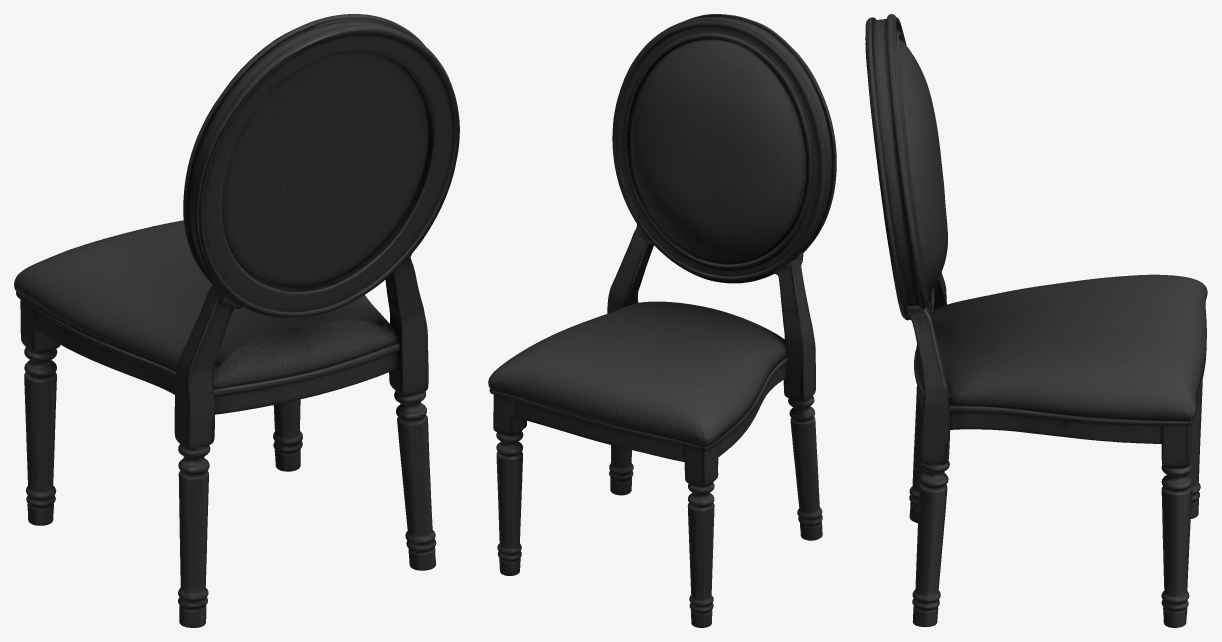
The model's file is chair-black.glb.
3 views of the same model, side by side, from view 1: azimuth 30°, elevation 25°; view 2: azimuth 150°, elevation 25°; view 3: azimuth 270°, elevation 25° (orthographic). The views are drawn at different scales.
Parts seen in each view (by area): view 1: tripo_node_afaa84c3-9462-496d-8b25-2f4709c2159a; view 2: tripo_node_afaa84c3-9462-496d-8b25-2f4709c2159a; view 3: tripo_node_afaa84c3-9462-496d-8b25-2f4709c2159a.
Part boxes in pixels (bbox=[...]): tripo_node_afaa84c3-9462-496d-8b25-2f4709c2159a: bbox=[14, 14, 459, 627]; tripo_node_afaa84c3-9462-496d-8b25-2f4709c2159a: bbox=[488, 14, 836, 627]; tripo_node_afaa84c3-9462-496d-8b25-2f4709c2159a: bbox=[865, 14, 1207, 627].
Bounding box in the file's own units: 0.4553 × 0.92 × 0.5231.
Materials: 1 (1 with a texture image).
